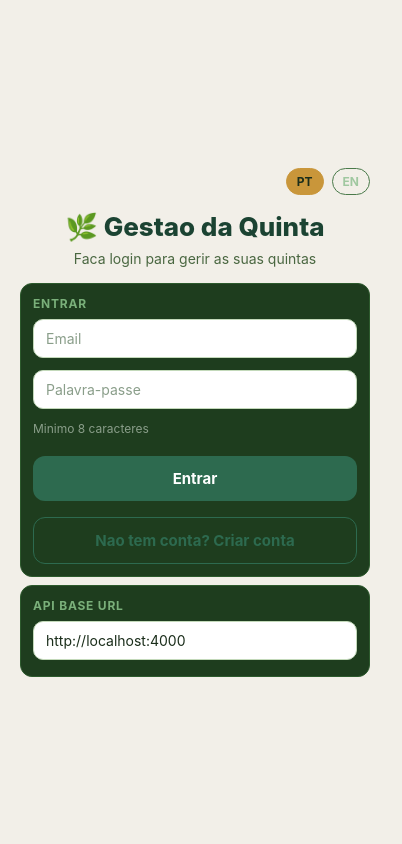
Test case: Undoable delete (medication) › removes the row and offers Undo without deleting immediately, then restores on Undo
The image size is (402, 844).
Type "owner@example.com" into the field with test id "login-email".
click(195, 338); type("owner@example.com")  # box [33, 318, 357, 358]
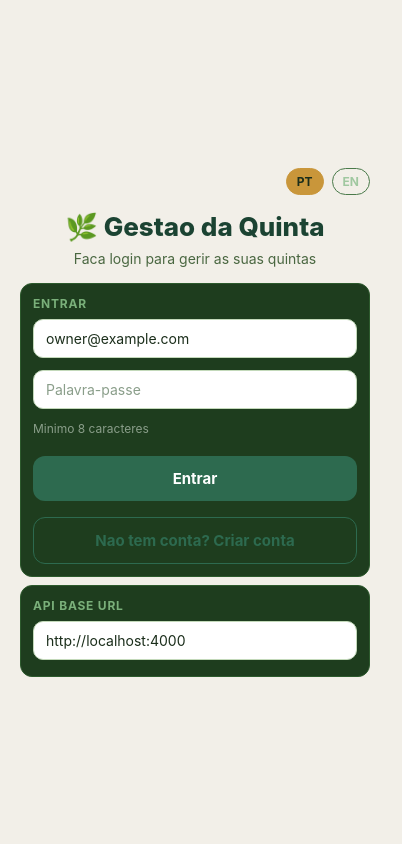
Type "supersecret1" into the password field with test id "login-password".
click(195, 389); type("supersecret1")  # box [33, 370, 357, 408]
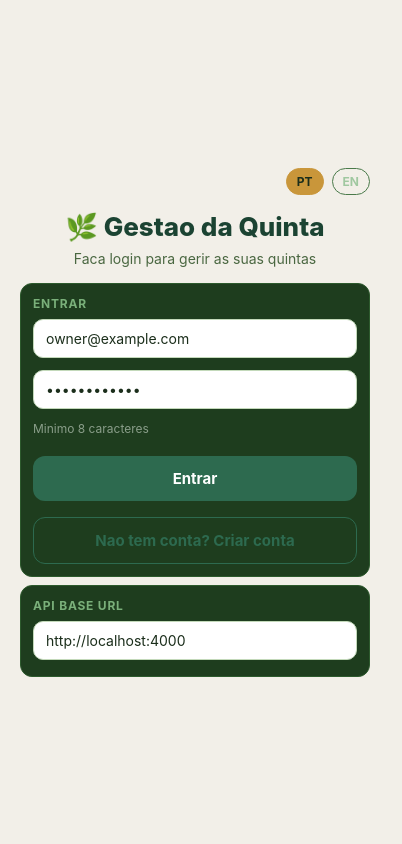
Click the element with test id "login-submit".
click(195, 478)  # box [33, 456, 357, 500]
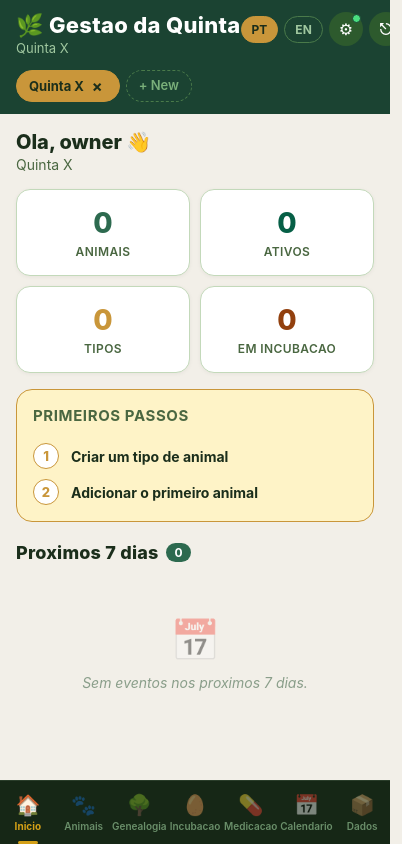
Click the text "Medicacao".
click(251, 826)  # box [224, 820, 277, 832]
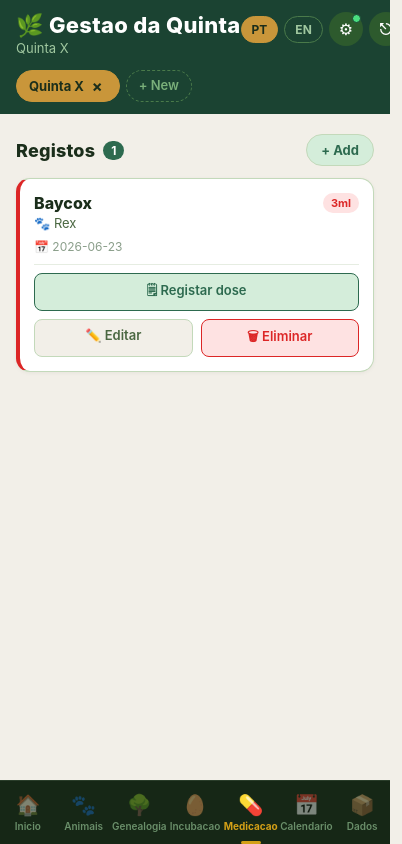
Result: the text "Baycox" is shown at [34, 193, 92, 213]
Click the element labelled "Eliminar".
click(280, 338)  # box [200, 319, 359, 357]
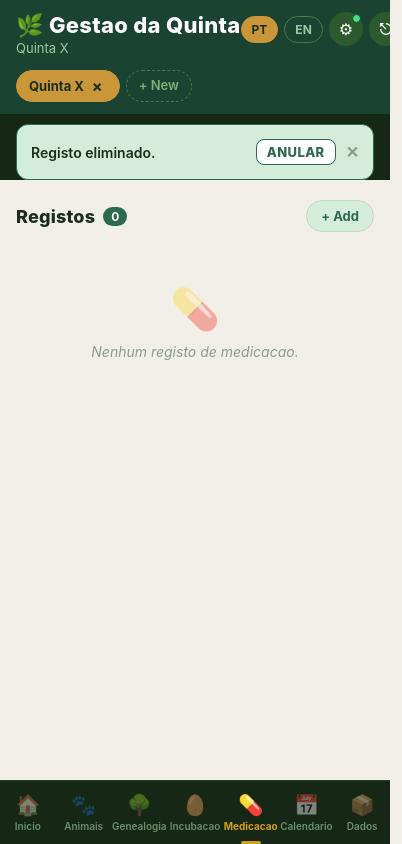
Result: the text "Baycox" is gone
Result: the text "Anular" is shown
Click the text "Anular".
click(296, 152)  # box [267, 144, 325, 160]
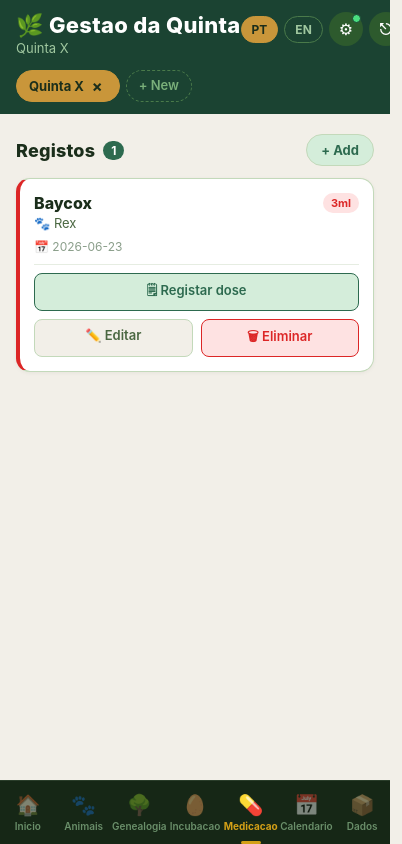
Result: the text "Baycox" is shown at [34, 193, 92, 213]
